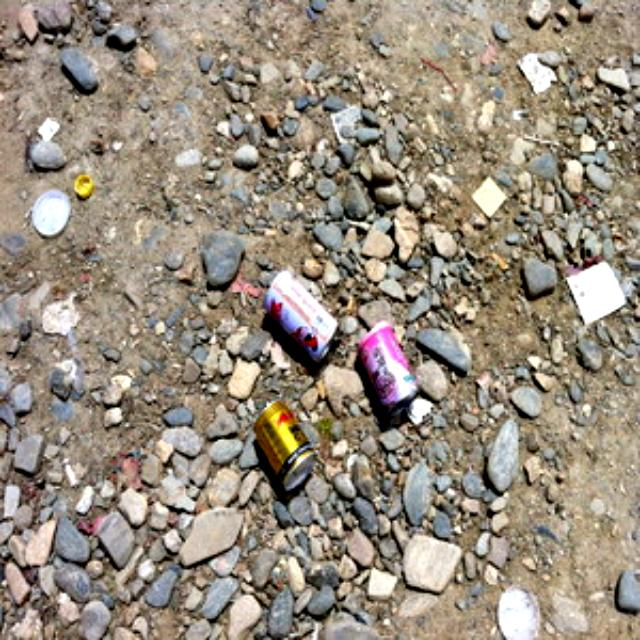Metal: (263, 256, 337, 364), (254, 396, 314, 499), (360, 316, 412, 414)
